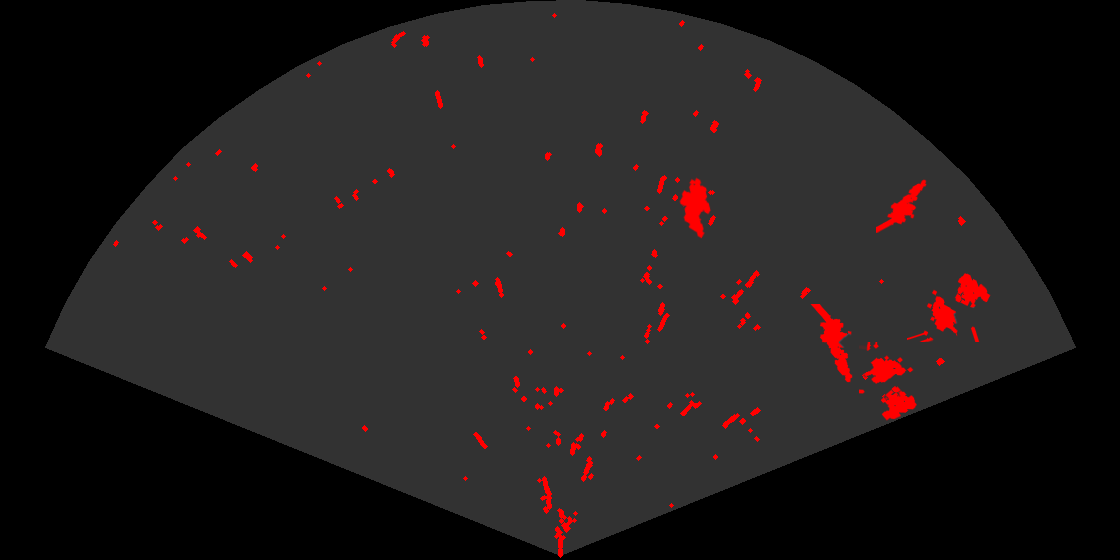AUV: (678, 176, 712, 240)
cage: (907, 272, 992, 342), (859, 342, 918, 422)
frogman: (809, 304, 854, 384), (876, 178, 928, 233)
